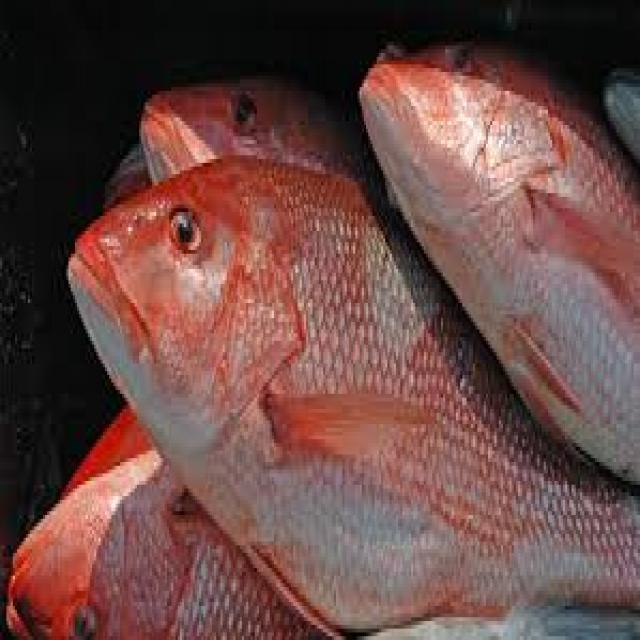northern-red-snapper: (66, 134, 640, 635), (351, 22, 640, 496), (4, 424, 337, 640), (113, 62, 352, 206)
